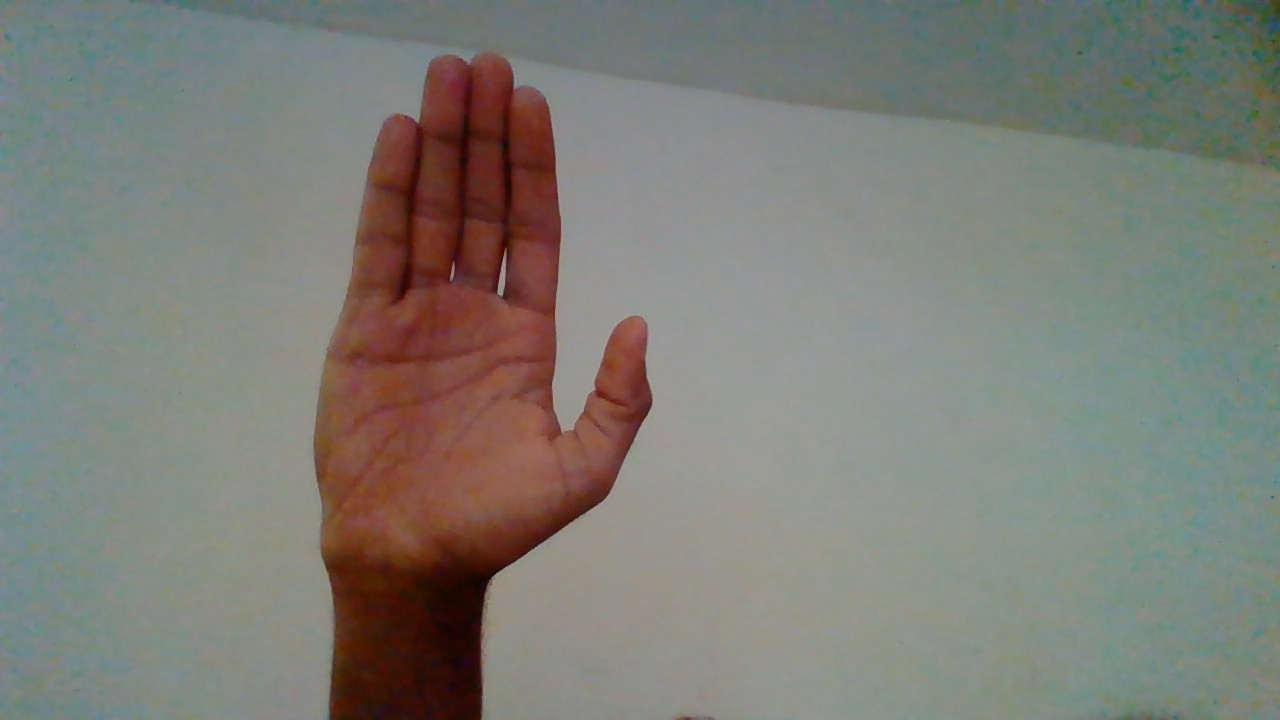ha: (313, 57, 652, 671)
